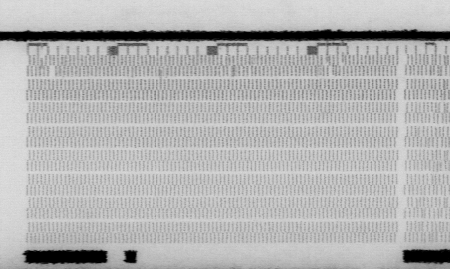Broken hole: (46, 65, 58, 77)
Oblique printing: (424, 53, 450, 243), (321, 52, 347, 78), (223, 64, 240, 79), (36, 54, 48, 69)
